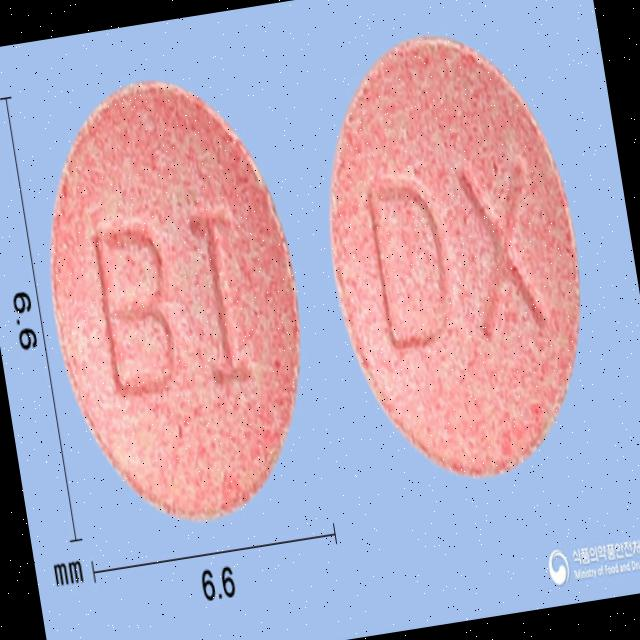Doxic: (301, 19, 612, 498), (22, 65, 330, 539)
